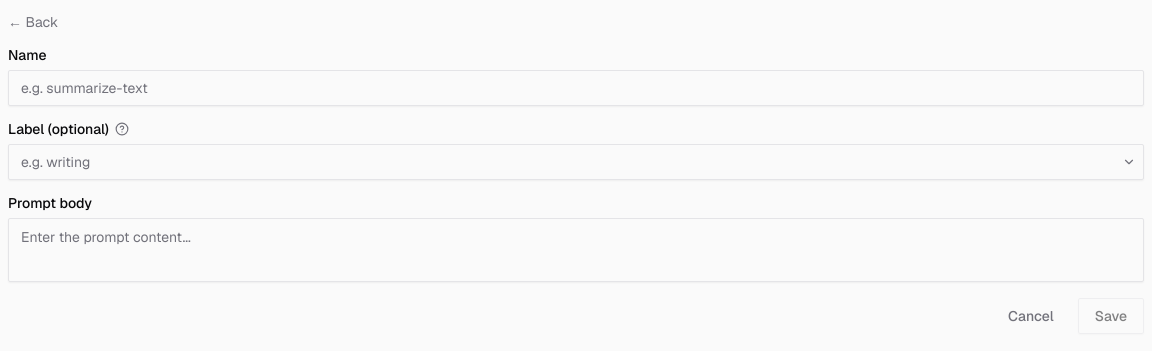
PromptForm › should show dropdown with existing labels when label input is focused
Click the dropdown labelled "Label (optional)": coordinates (576, 162) [8, 144, 1144, 180]
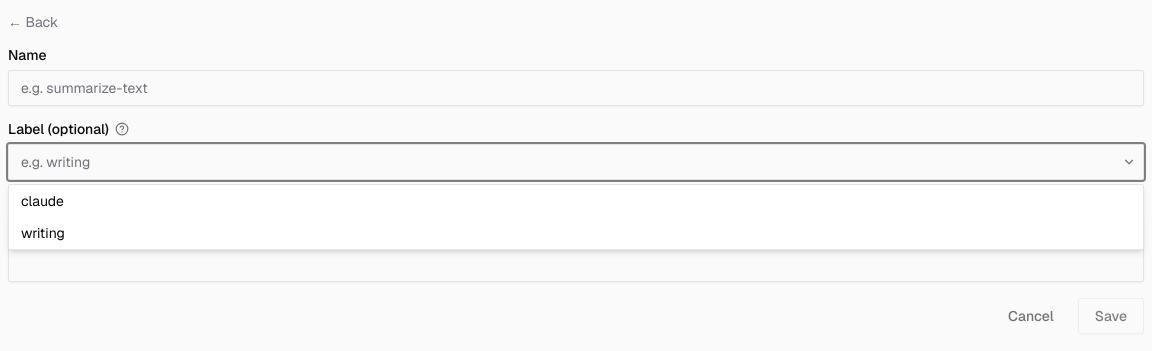
Now the option "claude" is shown, box [21, 192, 64, 210]
Now the option "writing" is shown, box [21, 224, 65, 242]
